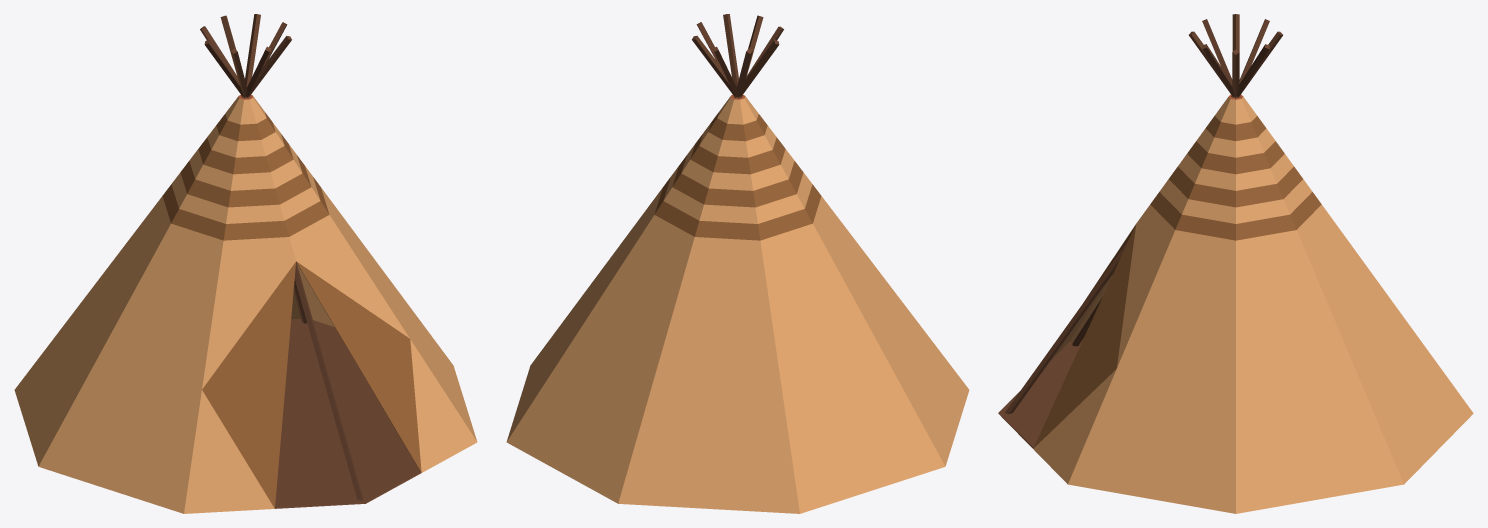
File: Tipi_Round.fbx
3 renders of one model, left to right at view 1: azimuth 30°, elevation 25°; view 2: azimuth 150°, elevation 25°; view 3: azimuth 270°, elevation 25°, orthographic.
Visible parts, largest first — view 1: Tipi_Round; view 2: Tipi_Round; view 3: Tipi_Round.
Part boxes in pixels (box(x1,y1,x2,y2)): Tipi_Round: box(14, 14, 477, 513); Tipi_Round: box(506, 14, 969, 513); Tipi_Round: box(998, 14, 1473, 513).
Bounding box in the file's own units: 0.68 × 0.6027 × 0.68.
